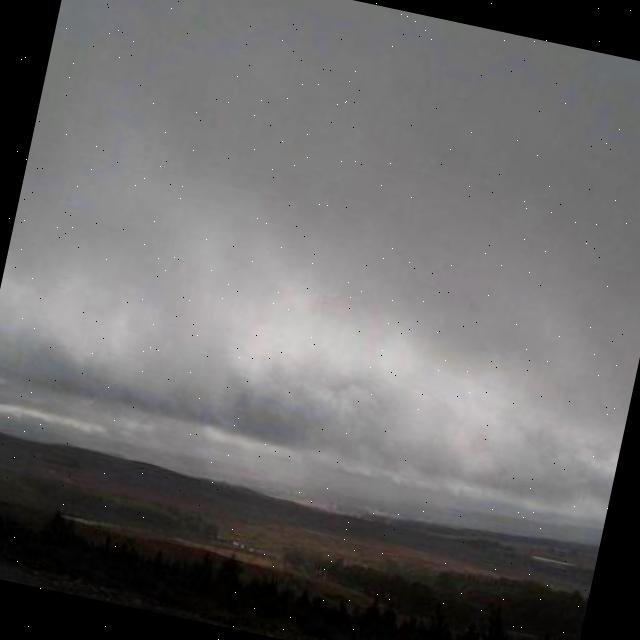St: (1, 1, 640, 539)
